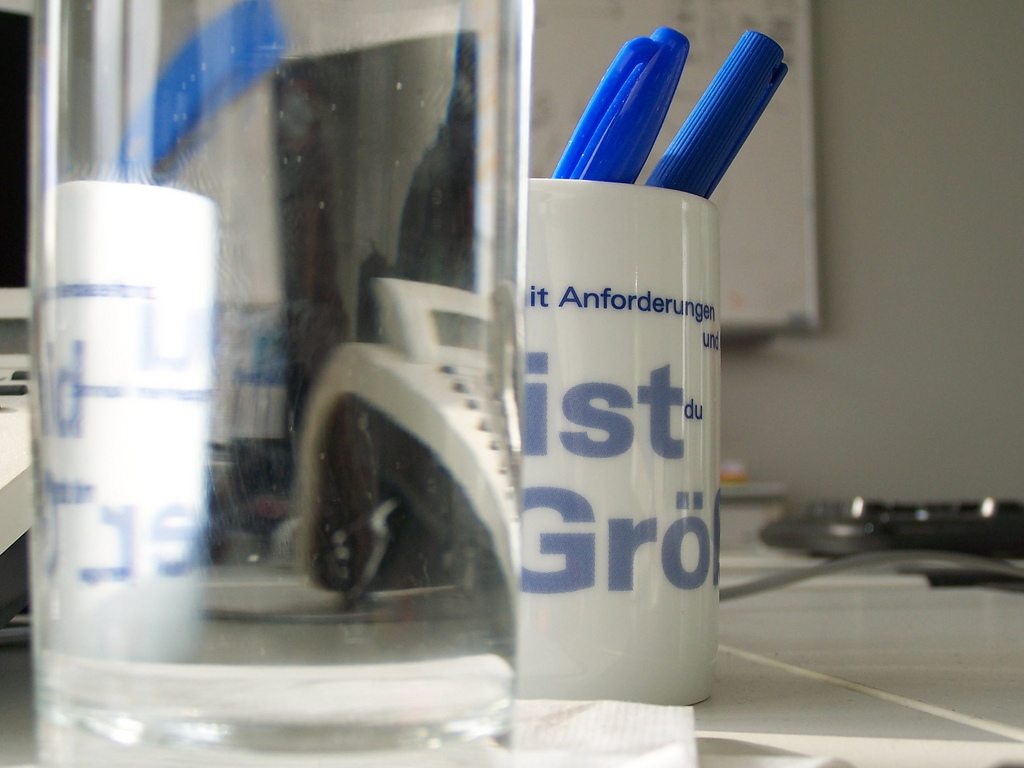glass of water: (70, 12, 517, 745)
